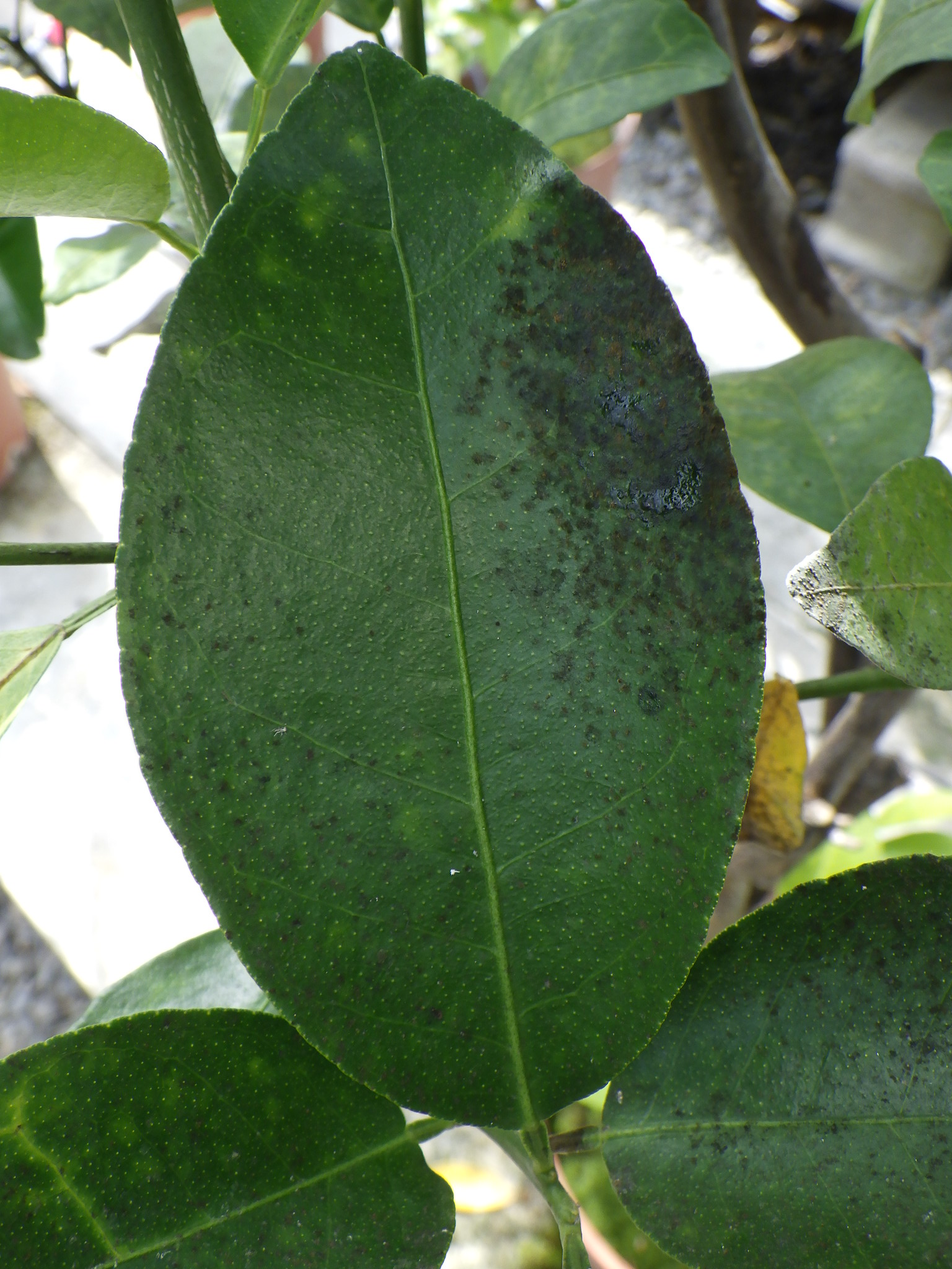Sooty_Mold: (117, 46, 763, 1128)
